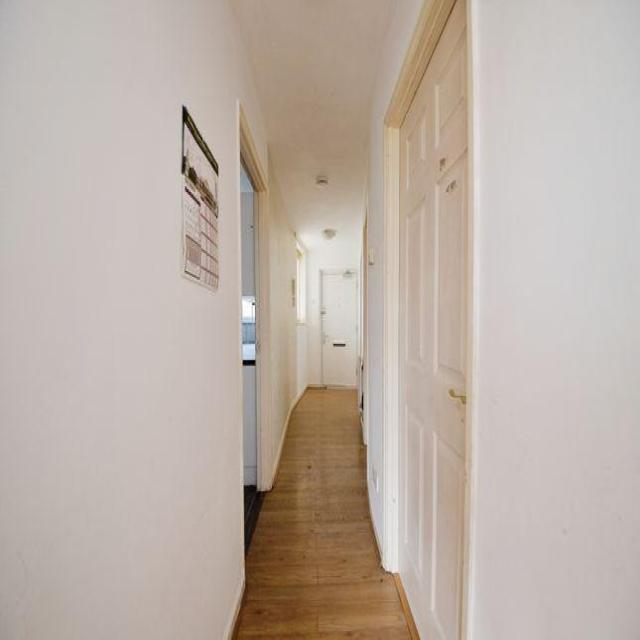Wall: (0, 2, 241, 637), (467, 0, 640, 638), (234, 390, 418, 638), (181, 2, 268, 374), (232, 0, 392, 185), (367, 0, 422, 537), (272, 148, 364, 248), (269, 159, 296, 483), (307, 229, 357, 383), (296, 324, 307, 397)
